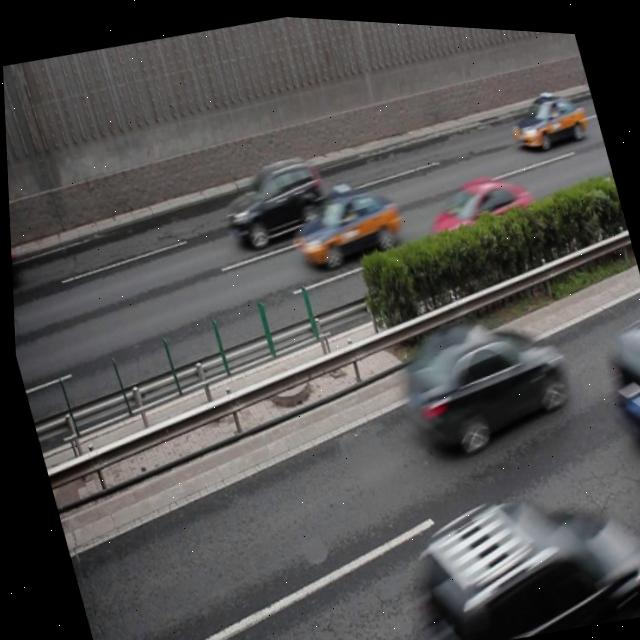car: (385, 453, 640, 640), (384, 291, 577, 460), (413, 158, 544, 267), (211, 143, 334, 251), (284, 171, 409, 274), (501, 76, 591, 153), (8, 225, 22, 296)
truck: (592, 299, 640, 464)
